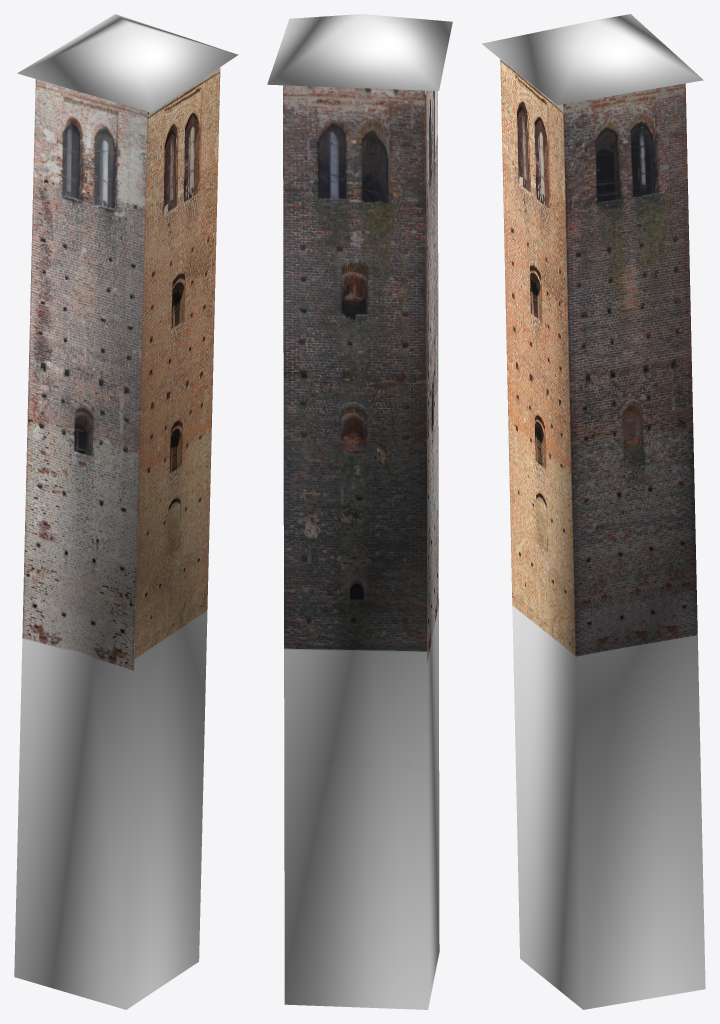
3 views of the same model, side by side, from view 1: azimuth 30°, elevation 25°; view 2: azimuth 150°, elevation 25°; view 3: azimuth 270°, elevation 25° (orthographic).
Visible parts, largest first — view 1: Plane; view 2: Plane; view 3: Plane.
Boxes of the visible parts, x1,y1,x2,y2 form: Plane: (14, 14, 238, 1009); Plane: (267, 14, 452, 1009); Plane: (482, 14, 705, 1009).
Size of the model in its own units: 7.78 by 38.1 by 8.08.
5 materials, 5 textured.
